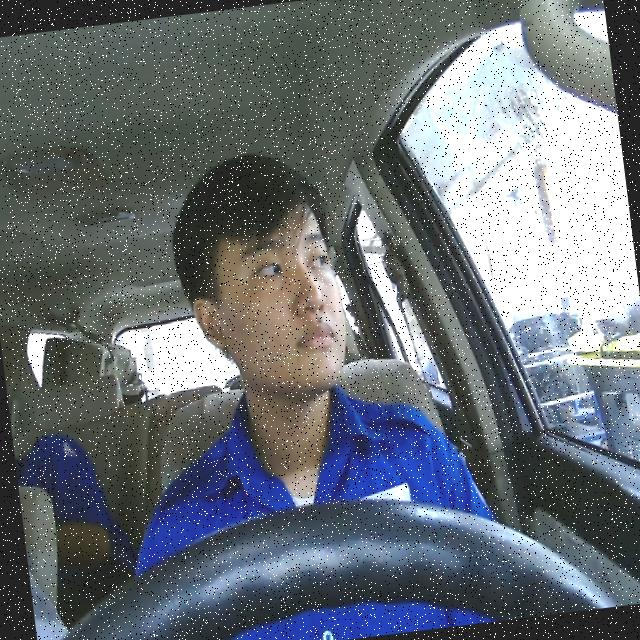seeing_right: (178, 198, 354, 408)
